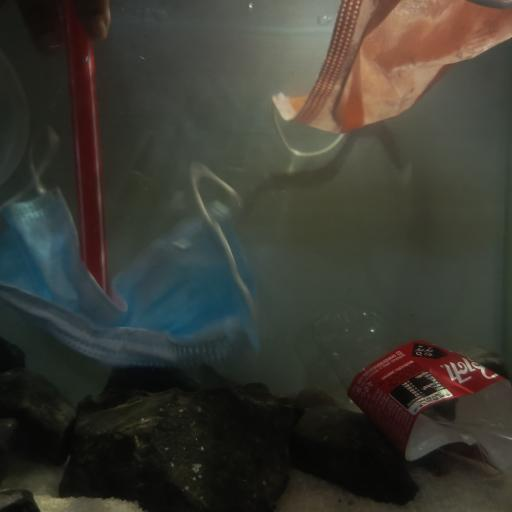mask: (3, 134, 261, 362), (275, 0, 512, 160)
plastic_bottle: (294, 302, 512, 476)
plastic_straw: (70, 20, 116, 290)
